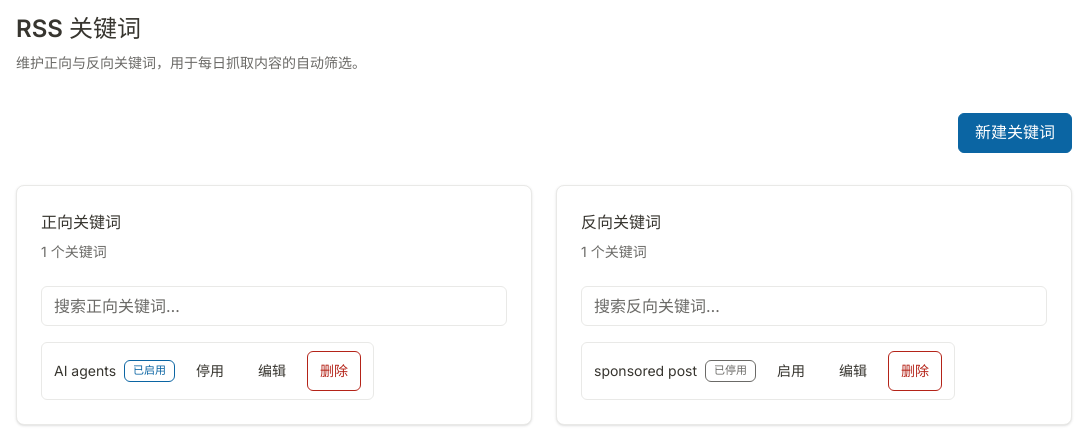
Scenario: RssKeywordsPage › filters keywords per panel via the search input
This screenshot has width=1089, height=443.
In the field labelled "搜索正向关键词": (274, 306) x1=41 y1=286 x2=507 y2=326, type "zzz"
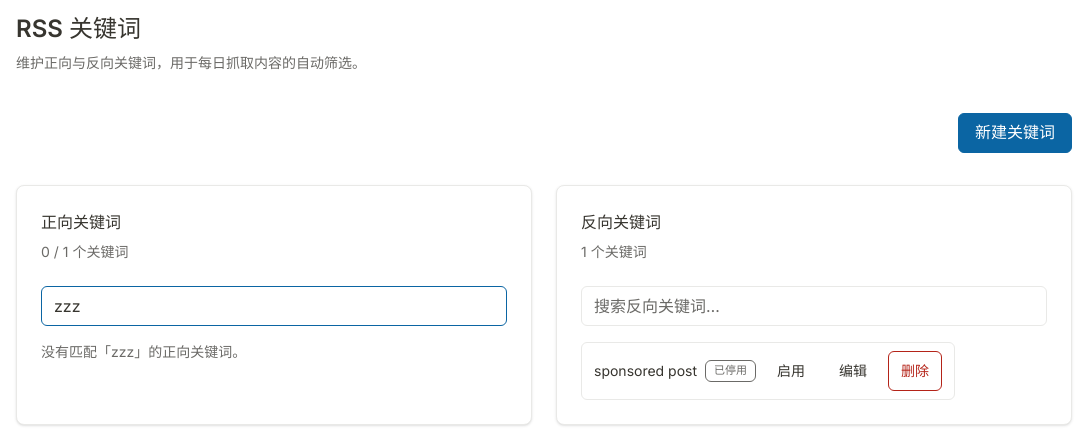
Expected: the element "反向关键词" shows "sponsored post", x1=594 y1=362 x2=697 y2=379
Now the element "正向关键词" shows "没有匹配「zzz」的正向关键词", box x1=41 y1=343 x2=246 y2=360
Now the element "正向关键词" no longer shows "AI agents", box x1=16 y1=185 x2=532 y2=425
